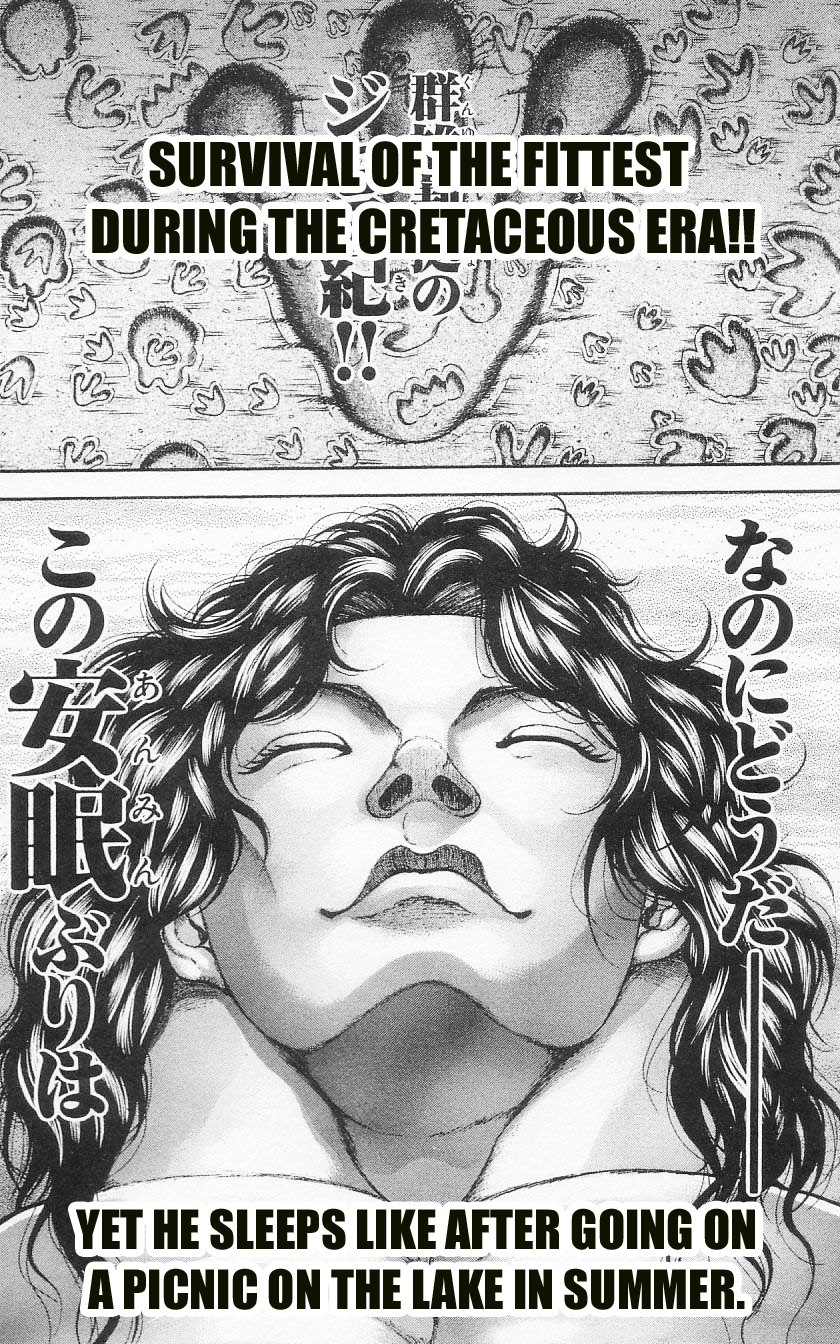Vignetta: (1, 488, 839, 1341), (2, 1, 836, 472)
